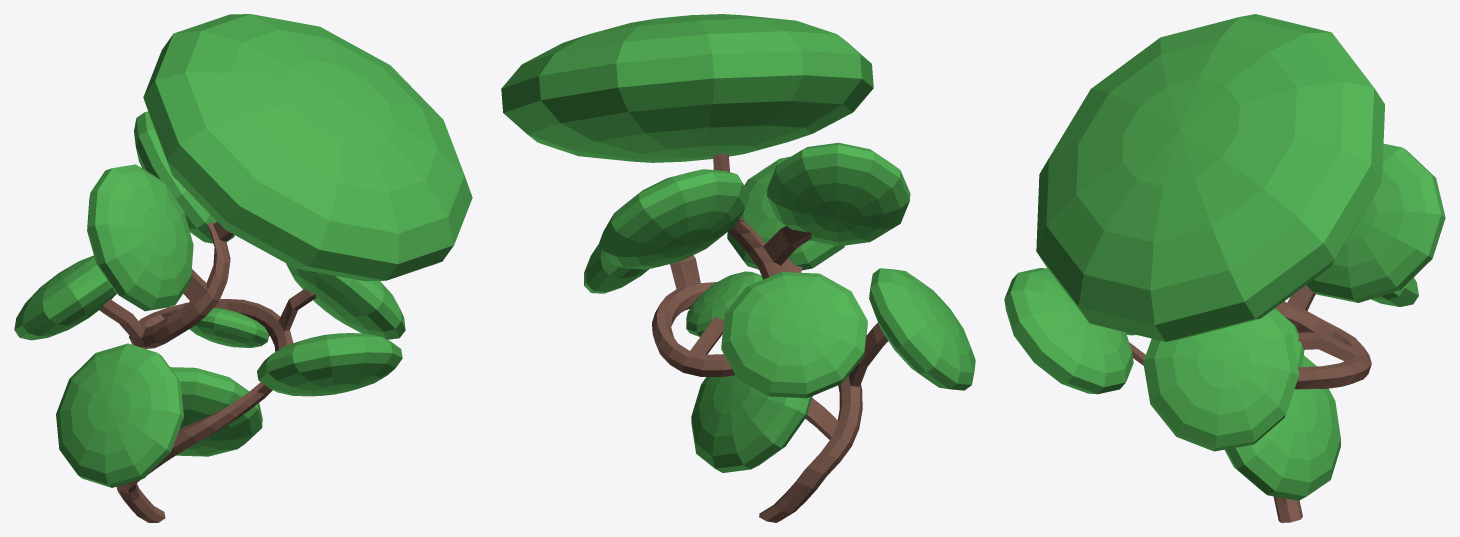
The model's file is model-triangulated.obj.
The picture shows the model from 3 angles, left to right: view 1: azimuth 30°, elevation 25°; view 2: azimuth 150°, elevation 25°; view 3: azimuth 270°, elevation 25°; orthographic projection. The views are drawn at different scales.
Parts seen in each view (by area): view 1: group2066434731, group1861586618, group1814269884, group1072661436, group26929146, group416458669, group1253570923, group1451120033, group1978788804, group343396769; view 2: group2066434731, group416458669, group1072661436, group1814269884, group1978788804, group1451120033, group1861586618, group26929146, group343396769, group1253570923; view 3: group2066434731, group1253570923, group1978788804, group26929146, group1451120033, group1072661436, group416458669.
Boxes of the visible parts, x1,y1,x2,y2 form: group2066434731: [143, 14, 472, 281]; group1861586618: [56, 343, 183, 487]; group1814269884: [87, 164, 193, 311]; group1072661436: [99, 221, 316, 522]; group26929146: [257, 333, 402, 396]; group416458669: [14, 255, 116, 340]; group1253570923: [286, 263, 405, 339]; group1451120033: [170, 367, 262, 456]; group1978788804: [134, 111, 234, 243]; group343396769: [189, 308, 268, 347]; group2066434731: [501, 14, 873, 162]; group416458669: [721, 272, 867, 398]; group1072661436: [652, 153, 887, 522]; group1814269884: [767, 142, 910, 246]; group1978788804: [599, 169, 749, 269]; group1451120033: [691, 354, 812, 472]; group1861586618: [869, 268, 975, 390]; group26929146: [727, 156, 845, 270]; group343396769: [686, 271, 762, 336]; group1253570923: [584, 243, 648, 293]; group2066434731: [1036, 14, 1384, 341]; group1253570923: [1143, 310, 1299, 451]; group1978788804: [1306, 143, 1445, 302]; group26929146: [1004, 268, 1133, 394]; group1451120033: [1224, 355, 1340, 500]; group1072661436: [1129, 285, 1371, 522]; group416458669: [1371, 277, 1418, 306].
Size of the model in its own units: 1.45 by 1.58 by 1.22.
